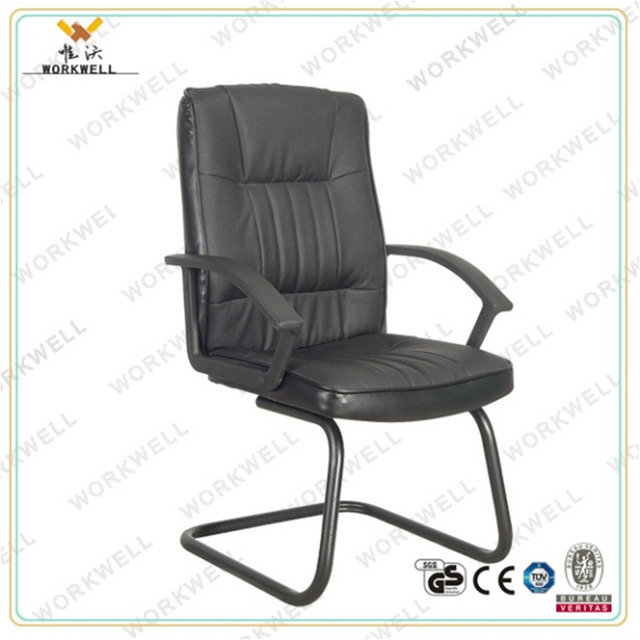chairs: (157, 80, 519, 609)
